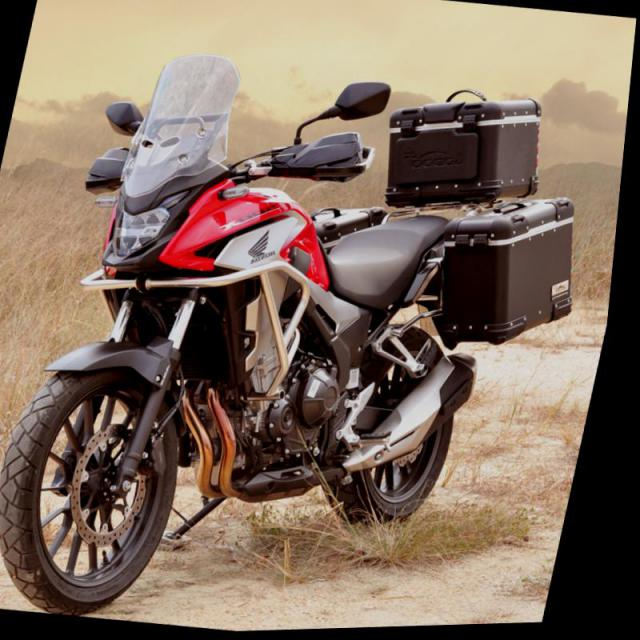CB500X: (0, 31, 547, 638)
